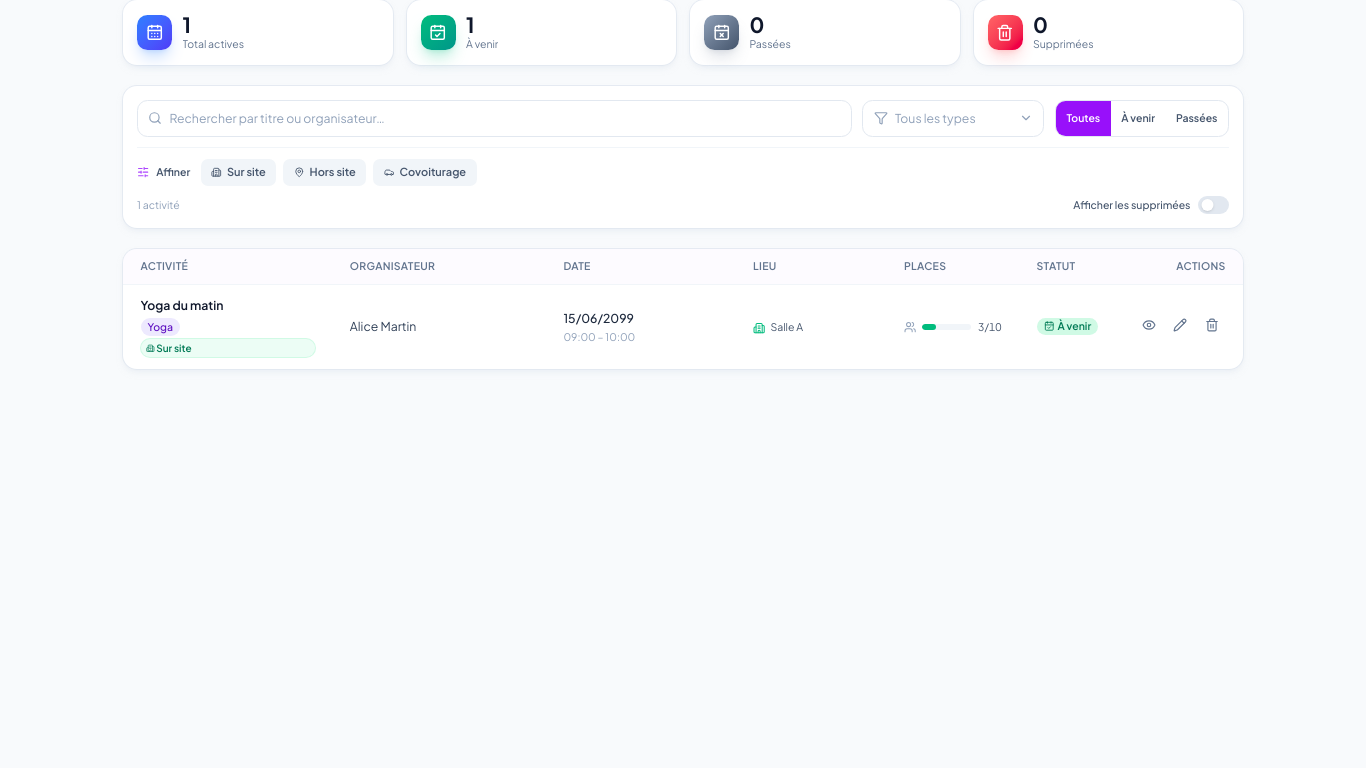
AdminActivitiesPage › ouvre la fiche détail via le bouton Voir le détail
The width and height of the screenshot is (1366, 768).
Click the button titled "Voir le détail". click: (1148, 325)
box: [1134,311,1162,339]
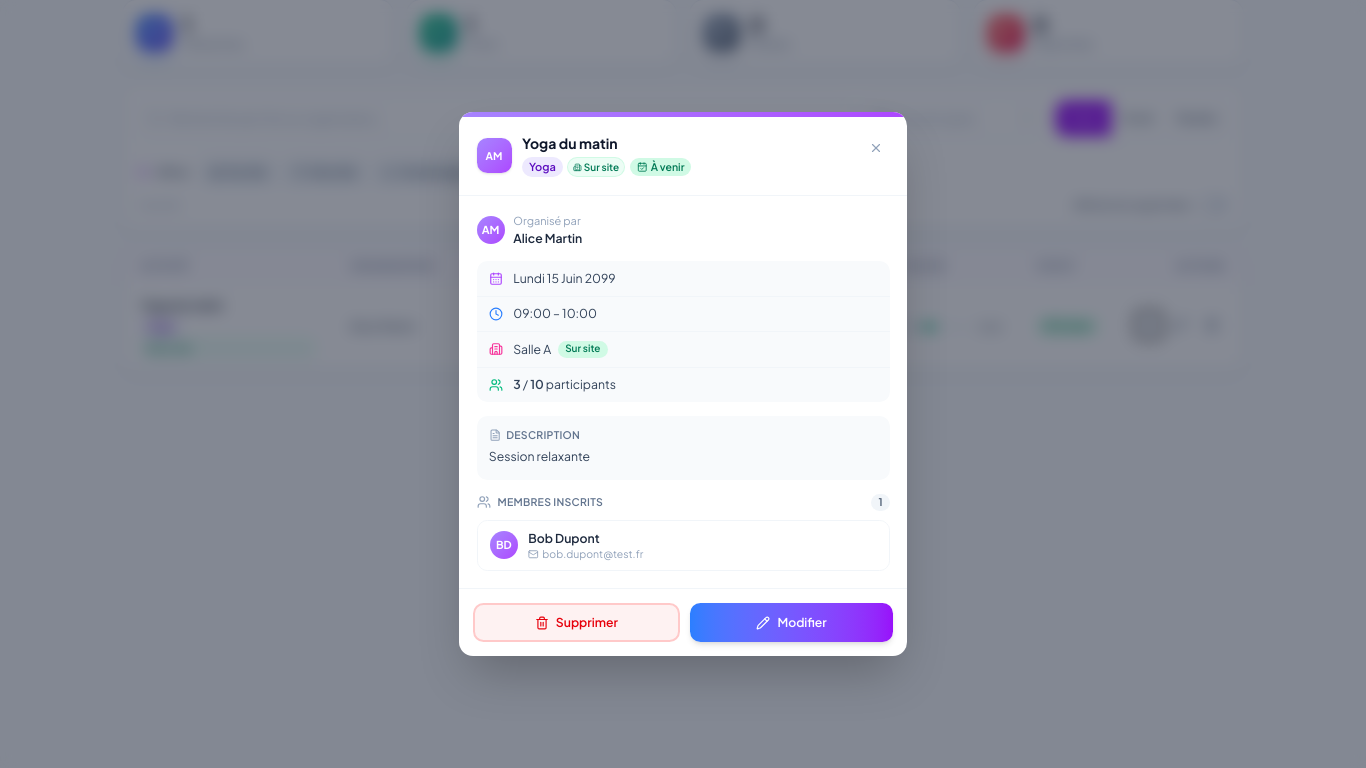
Expected: the dialog is shown
